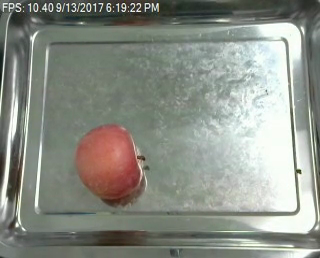Apple: (71, 122, 142, 205)
